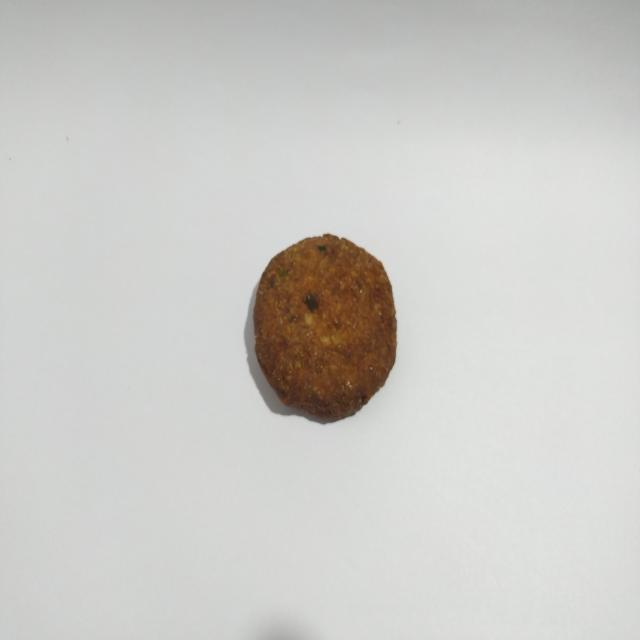Pajagua: (240, 222, 410, 431)
